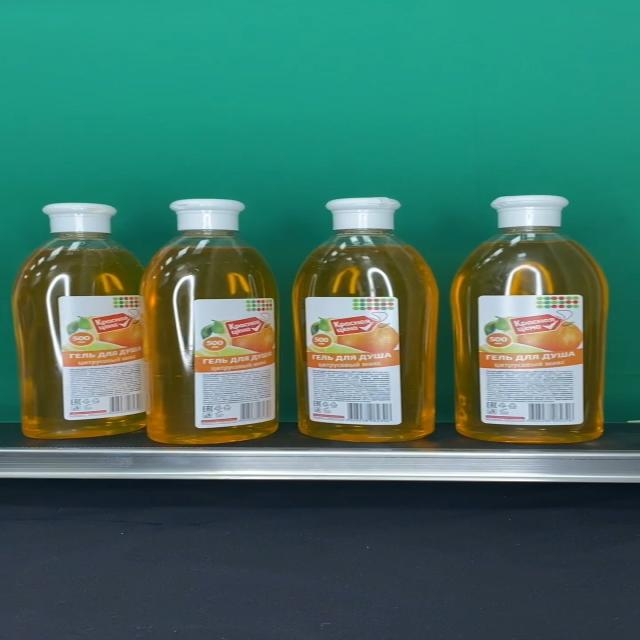Bottle: (450, 195, 610, 443), (292, 198, 439, 443), (141, 200, 278, 444), (12, 203, 144, 438)
Cap: (490, 196, 569, 228), (326, 198, 400, 230), (169, 200, 245, 230), (43, 203, 118, 233)
